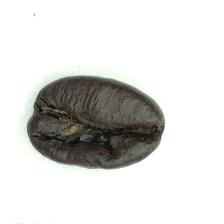NG: (35, 91, 147, 161)
